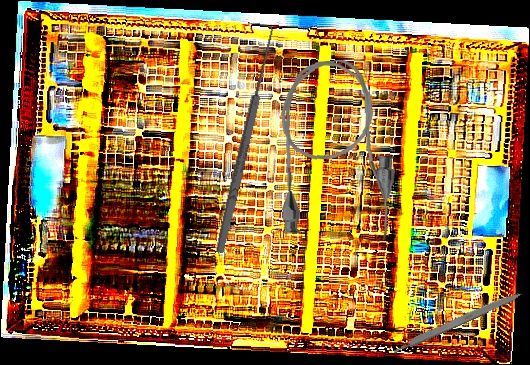Cannula: (273, 57, 399, 246)
Hook Surgical: (204, 22, 280, 255)
Scalpel Handle: (391, 287, 525, 355)
